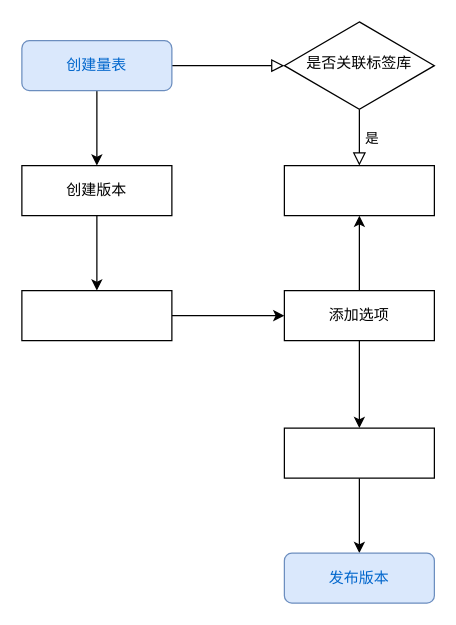
The diagram is 456 pixels wide and 625 high, and some of its shapes have lost their labels. Here are the shapes that lost their labels. From the top down, the centre of each, then its label:
point (358, 190): 关联标签
point (96, 315): 添加问题
point (358, 452): 逻辑设置
